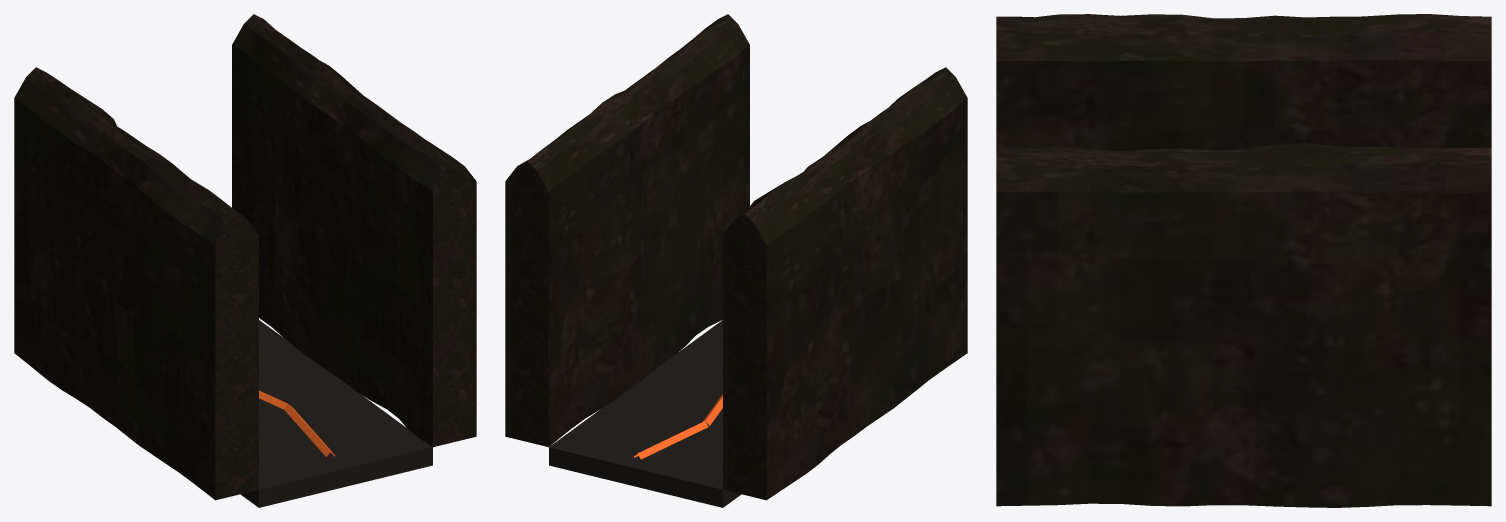
File: cave_corridor_01_lava.glb
The picture shows the model from 3 angles, left to right: view 1: azimuth 30°, elevation 25°; view 2: azimuth 150°, elevation 25°; view 3: azimuth 270°, elevation 25°; orthographic projection. The views are drawn at different scales.
Parts seen in each view (by area): view 1: cave_corridor_01_lava; view 2: cave_corridor_01_lava; view 3: cave_corridor_01_lava.
Part boxes in pixels (left/top/right/bottom): cave_corridor_01_lava: left=14, top=14, right=476, bottom=507; cave_corridor_01_lava: left=505, top=14, right=967, bottom=507; cave_corridor_01_lava: left=996, top=14, right=1491, bottom=507.
Size of the model in its own units: 3.18 by 3.32 by 4.
3 materials, 3 textured.
